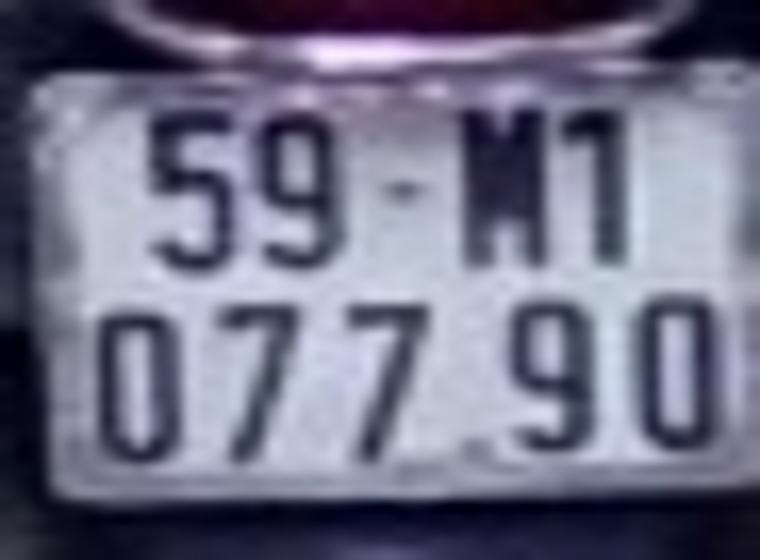-: (387, 179, 421, 200)
.: (462, 435, 486, 460)
0: (92, 309, 181, 460), (629, 293, 714, 448)
1: (567, 107, 628, 265)
5: (147, 108, 233, 268)
7: (341, 304, 433, 461), (217, 305, 298, 464)
9: (255, 109, 345, 270), (507, 299, 597, 453)
M: (456, 102, 547, 267)
